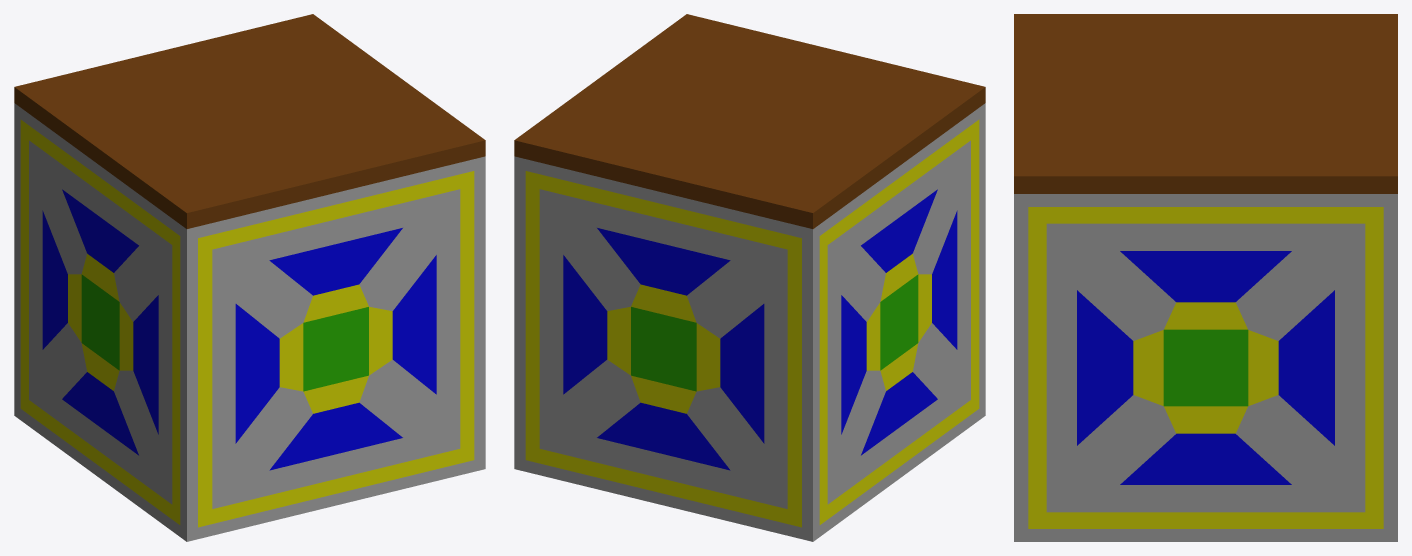
The model's file is table1.fbx.
3 renders of one model, left to right at view 1: azimuth 30°, elevation 25°; view 2: azimuth 150°, elevation 25°; view 3: azimuth 270°, elevation 25°, orthographic. The views are drawn at different scales.
Visible parts, largest first — view 1: table1; view 2: table1; view 3: table1.
Boxes of the visible parts, x1,y1,x2,y2 form: table1: (14,14,485,541); table1: (514,14,985,541); table1: (1014,14,1397,541).
Size of the model in its own units: 101 by 106 by 101.
